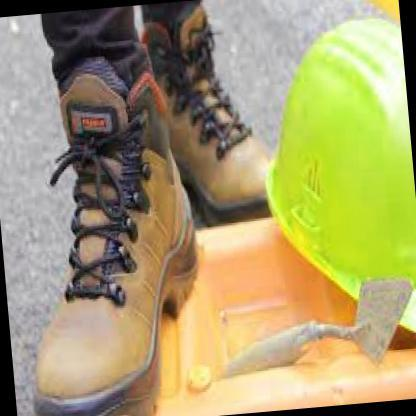safety-shoe: (10, 65, 218, 415), (143, 10, 286, 232)
